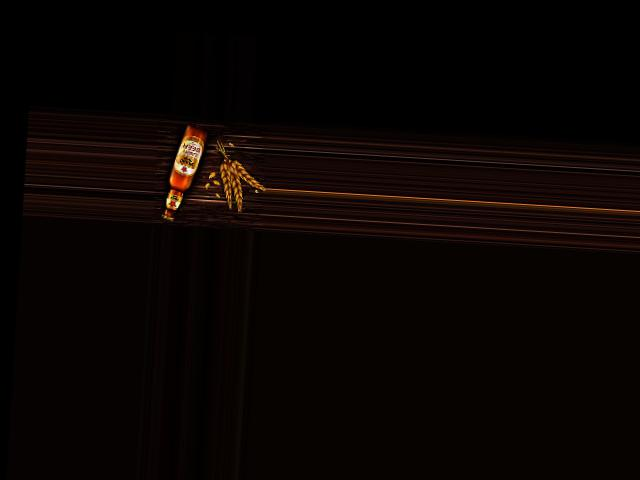beer: (160, 122, 208, 222)
